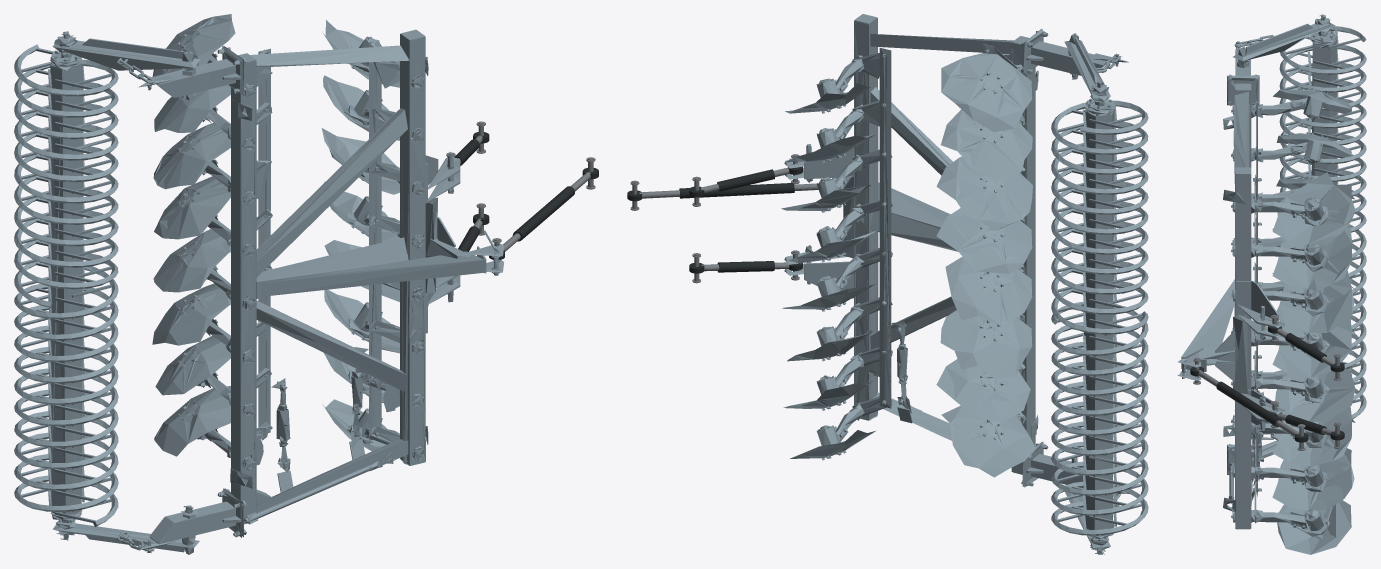
File: implement_mounted_disc_harrow_visual.obj
3 views of the same model, side by side, from view 1: azimuth 30°, elevation 25°; view 2: azimuth 150°, elevation 25°; view 3: azimuth 270°, elevation 25° (orthographic). The views are drawn at different scales.
Parts seen in each view (by area): view 1: solid_786, solid_787, solid_16, solid_783, solid_7, solid_4, solid_38, solid_3, solid_769, solid_1382, solid_1472, solid_2 (+23 smaller); view 2: solid_787, solid_786, solid_783, solid_7, solid_1204, solid_769, solid_1652, solid_1382, solid_1832, solid_1562, solid_1472, solid_1292 (+22 smaller); view 3: solid_787, solid_7, solid_127, solid_655, solid_215, solid_303, solid_479, solid_743, solid_391, solid_567, solid_786, solid_783 (+31 smaller).
Part boxes in pixels (x1,y1,x2,y2): solid_786: (14, 266, 118, 526); solid_787: (14, 44, 118, 308); solid_16: (231, 60, 256, 523); solid_783: (50, 63, 83, 514); solid_7: (400, 34, 425, 465); solid_4: (256, 108, 407, 277); solid_38: (260, 251, 484, 296); solid_3: (256, 300, 407, 391); solid_769: (369, 62, 381, 440); solid_1382: (153, 123, 230, 189); solid_1472: (154, 176, 230, 239); solid_2: (256, 237, 408, 298); solid_787: (1051, 100, 1148, 334); solid_786: (1051, 301, 1148, 535); solid_783: (1083, 109, 1114, 529); solid_7: (854, 17, 878, 420); solid_1204: (941, 53, 1032, 131); solid_769: (879, 47, 891, 408); solid_1652: (940, 310, 1032, 378); solid_1382: (936, 156, 1032, 230); solid_1832: (941, 405, 1035, 477); solid_1562: (945, 256, 1032, 324); solid_1472: (936, 208, 1032, 273); solid_1292: (941, 109, 1032, 180); solid_787: (1279, 26, 1366, 232); solid_7: (1235, 168, 1251, 528); solid_127: (1272, 172, 1355, 245); solid_655: (1272, 448, 1354, 510); solid_215: (1272, 227, 1352, 291); solid_303: (1276, 271, 1354, 332); solid_479: (1275, 368, 1355, 421); solid_743: (1277, 500, 1351, 554); solid_391: (1272, 318, 1351, 377); solid_567: (1272, 406, 1351, 466); solid_786: (1280, 224, 1366, 419); solid_783: (1311, 39, 1336, 184).
Size of the model in its own units: 3.33 by 2.86 by 1.16.
